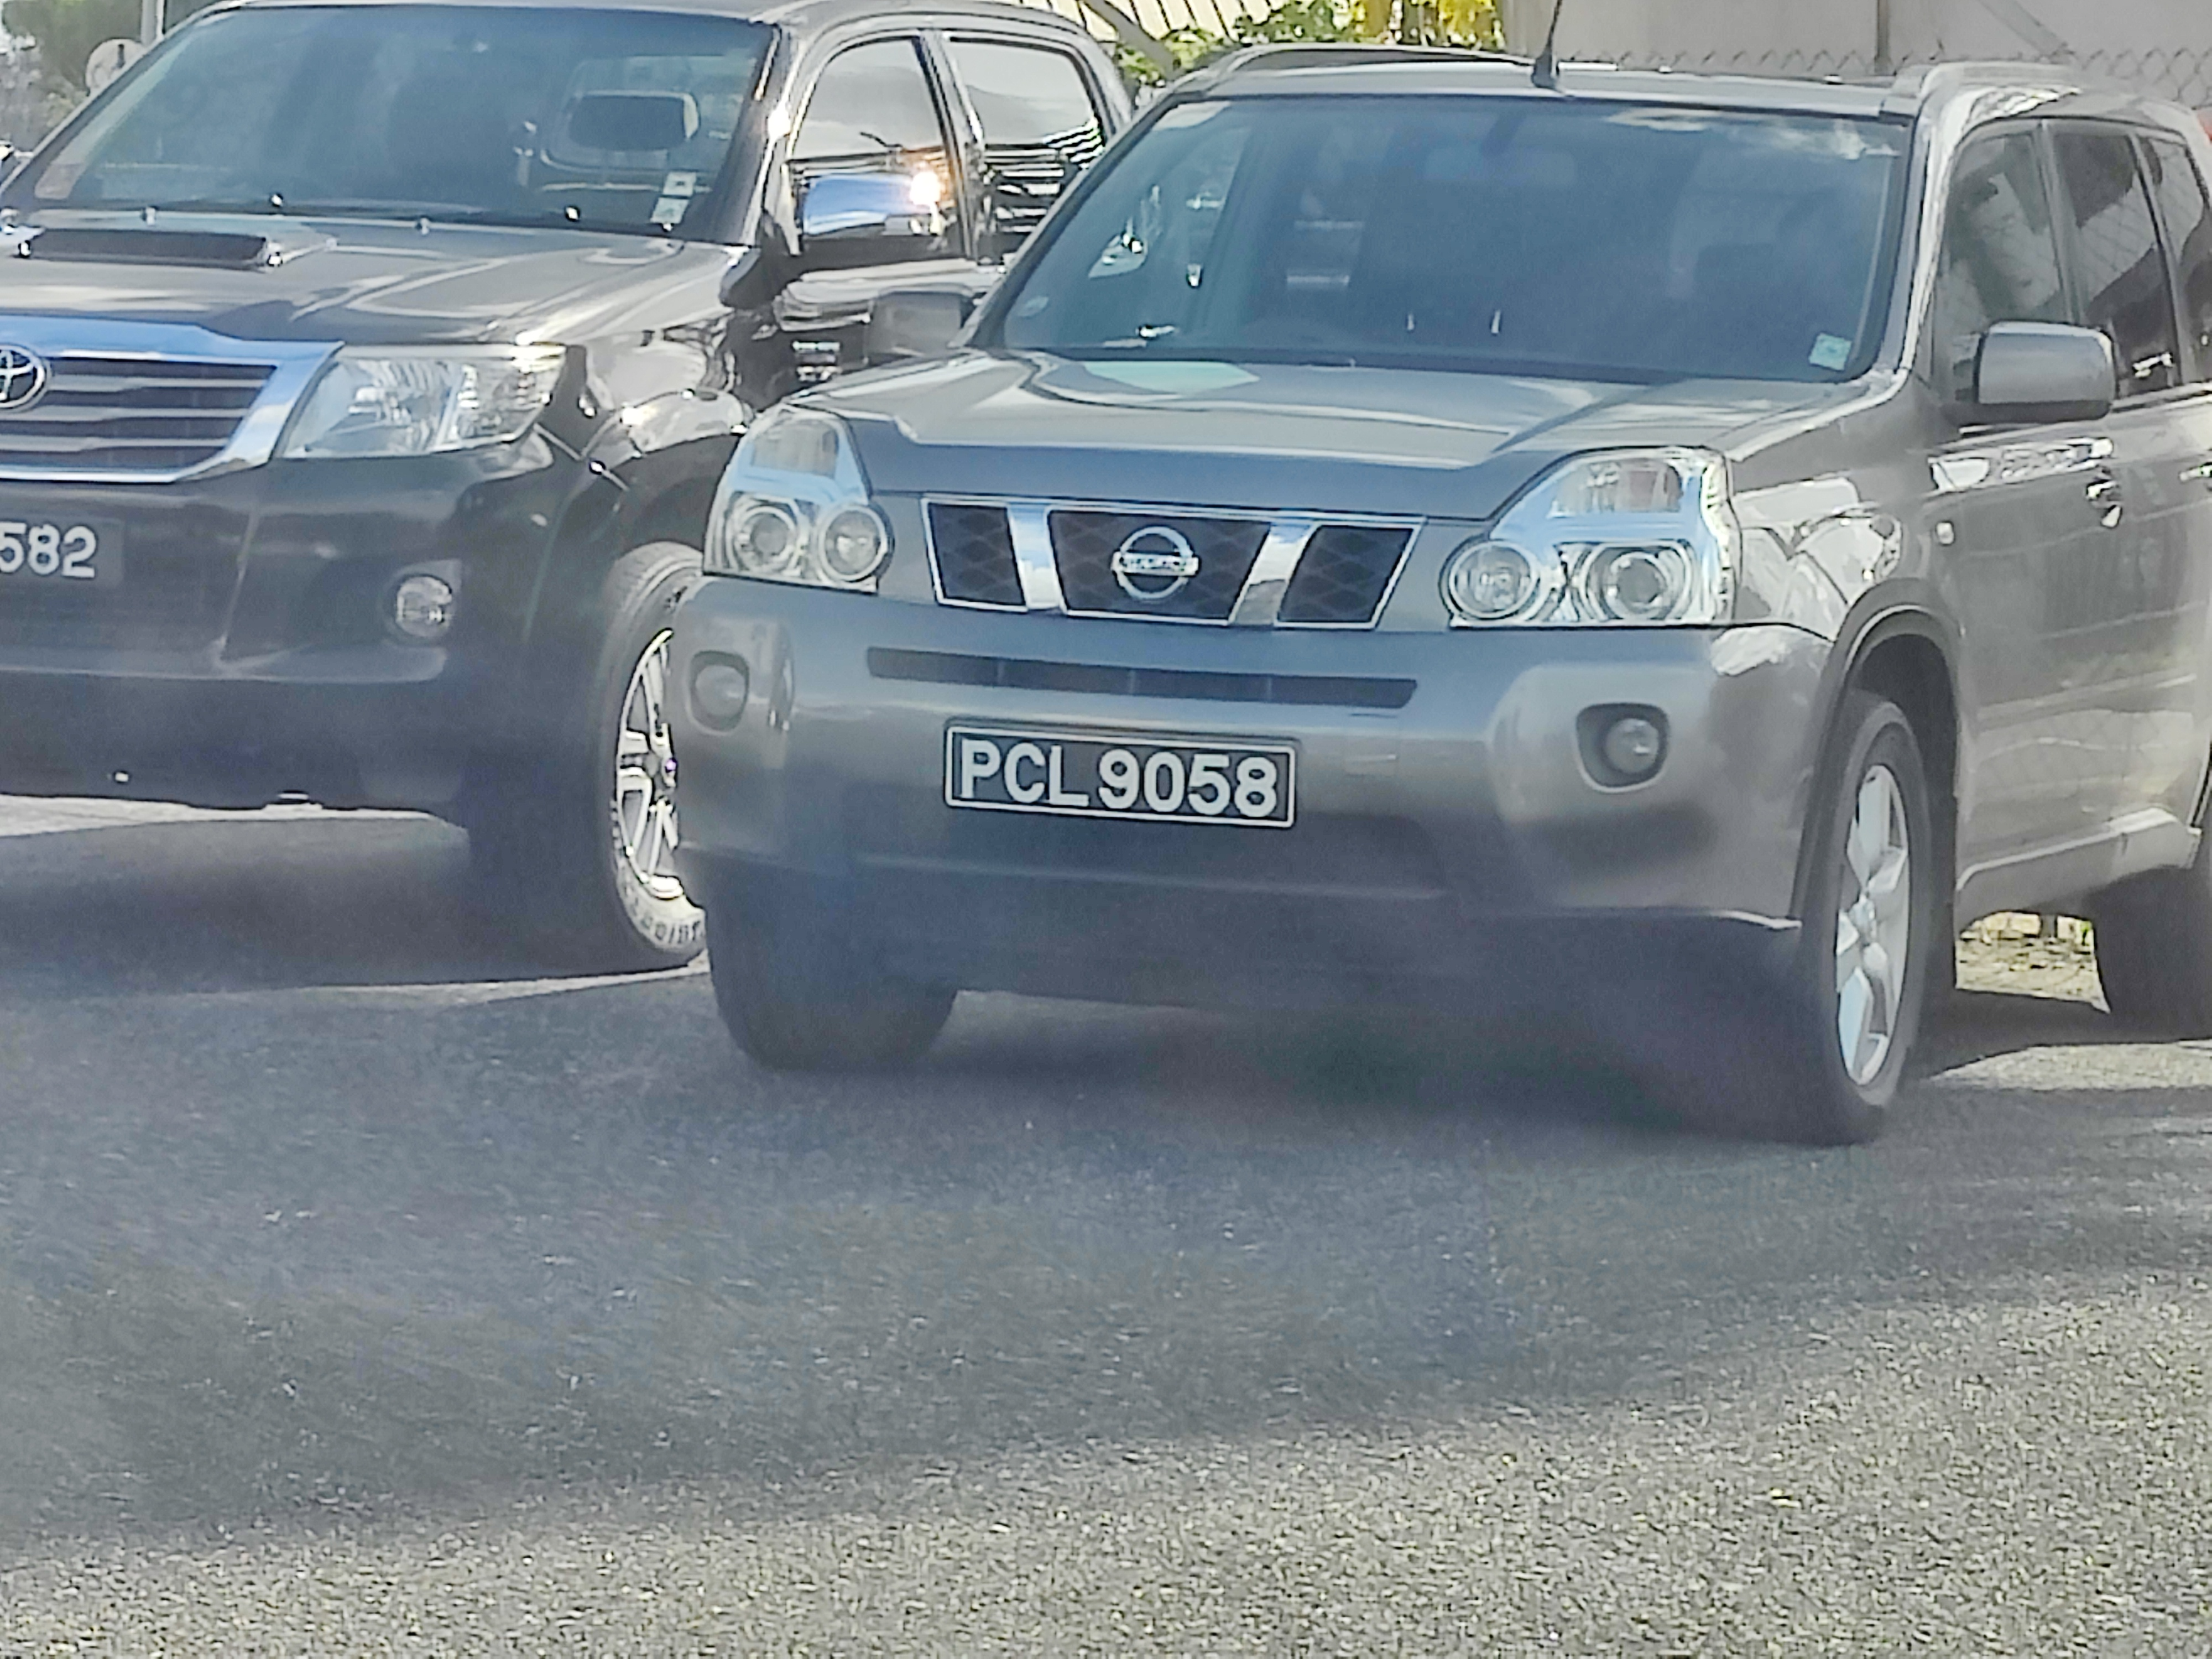License-Plate: (951, 726, 1295, 802)
